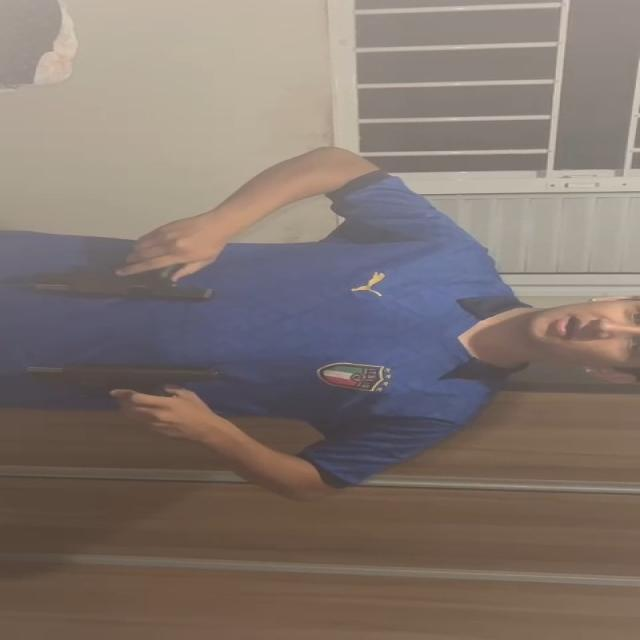gun: (17, 364, 224, 399), (25, 269, 218, 300)
